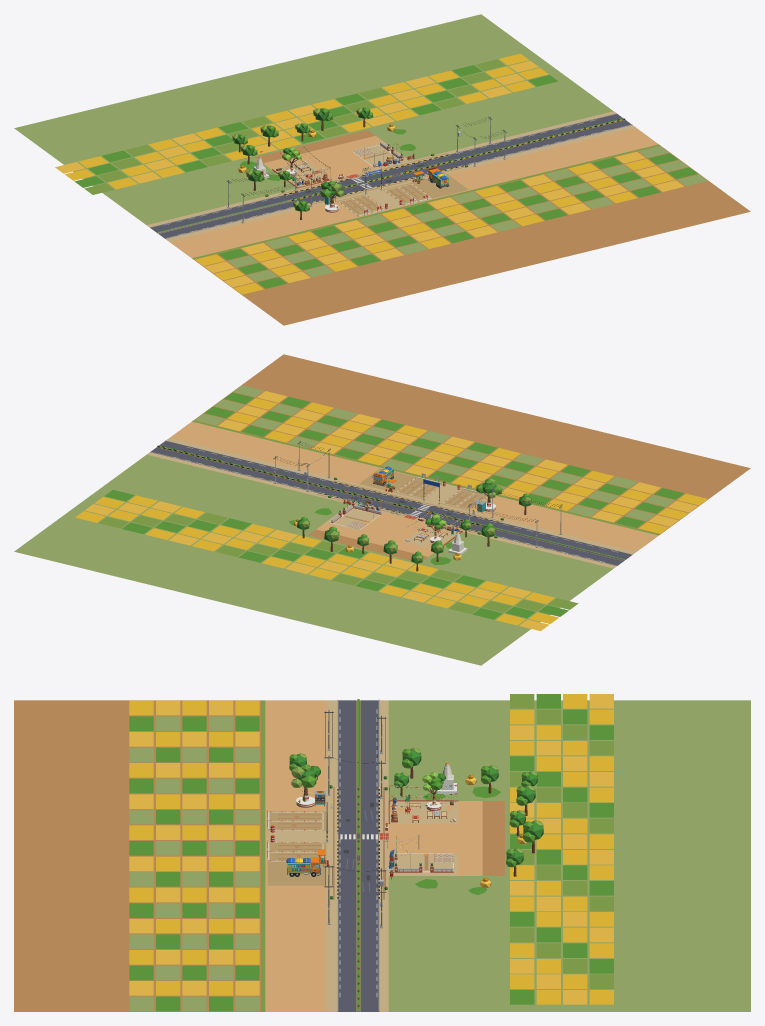
File: street_v3.glb
The picture shows the model from 3 angles, top to bottom: view 1: azimuth 30°, elevation 25°; view 2: azimuth 150°, elevation 25°; view 3: azimuth 270°, elevation 25°; orthographic projection. The views are drawn at different scales.
Parts seen in each view (by area): view 1: street_v3; view 2: street_v3; view 3: street_v3.
Boxes of the visible parts, x1,y1,x2,y2 form: street_v3: (14, 14, 750, 325); street_v3: (14, 354, 750, 665); street_v3: (14, 694, 750, 1011).
Size of the model in its own units: 102 by 6.17 by 100.
2 materials, 1 textured.
